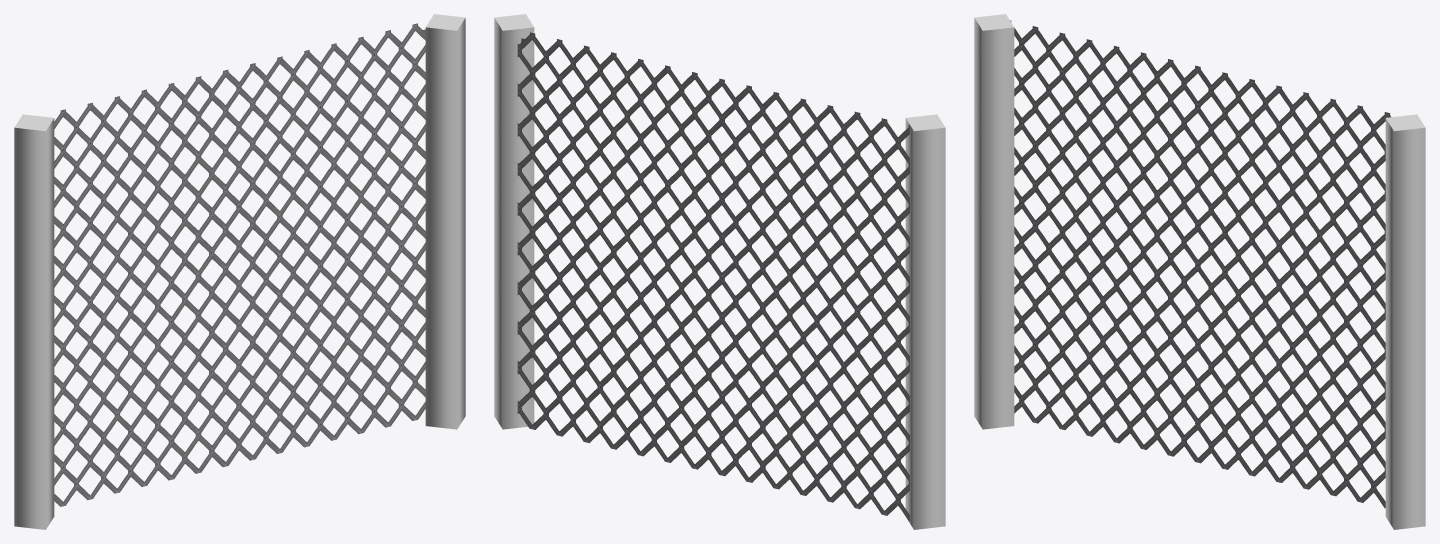
File: FenceNoSign.FBX
3 views of the same model, side by side, from view 1: azimuth 30°, elevation 25°; view 2: azimuth 150°, elevation 25°; view 3: azimuth 330°, elevation 25° (orthographic).
Parts seen in each view (by area): view 1: Fence, Poles; view 2: Fence, Poles; view 3: Fence, Poles.
Boxes of the visible parts, x1,y1,x2,y2 form: Fence: (54, 23, 425, 506); Poles: (14, 14, 465, 529); Fence: (517, 32, 909, 521); Poles: (494, 14, 945, 529); Fence: (1010, 20, 1390, 508); Poles: (974, 14, 1425, 529).
Size of the model in its own units: 154 by 130 by 13.65.
Materials: 1 (1 with a texture image).
